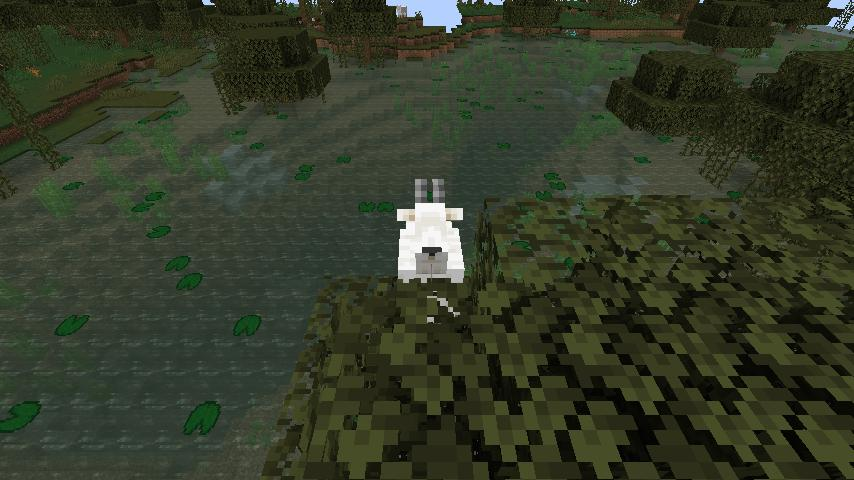goat: (395, 175, 468, 284)
